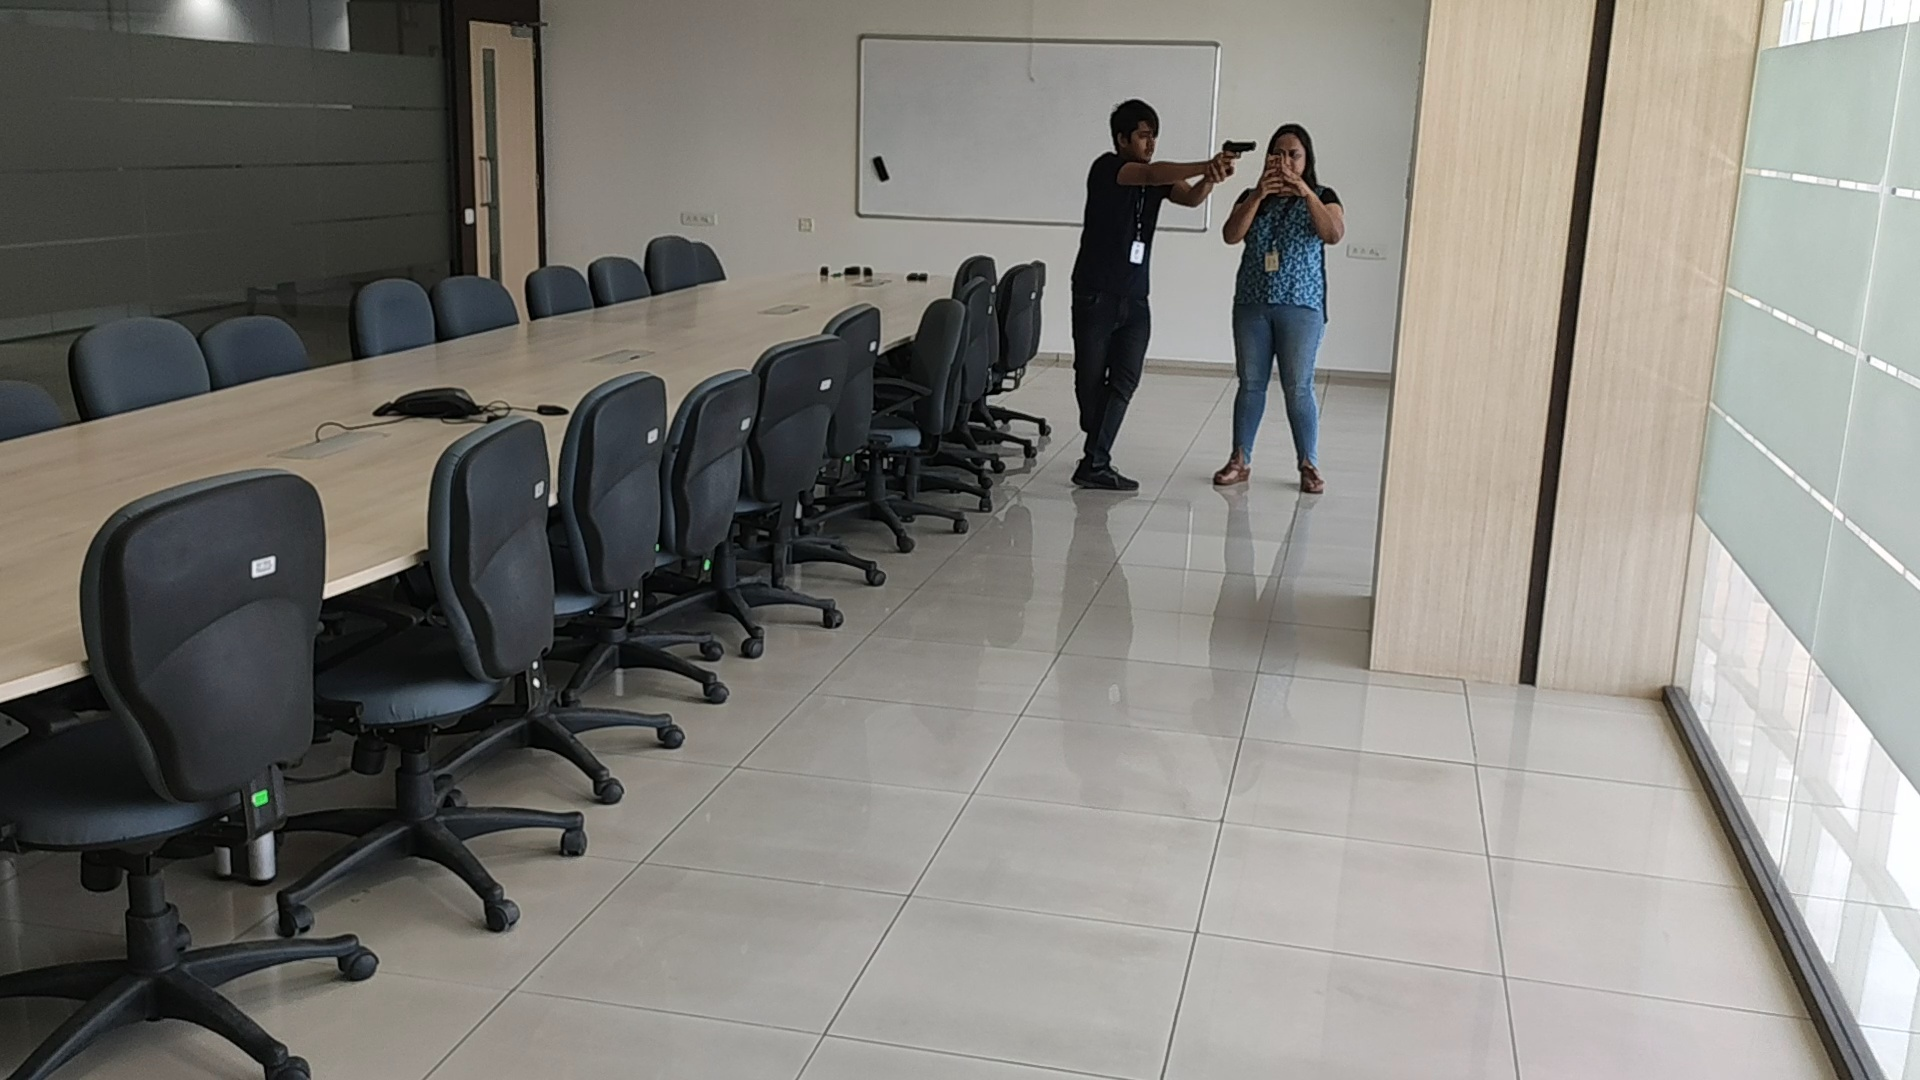gun: (1220, 135, 1258, 162)
